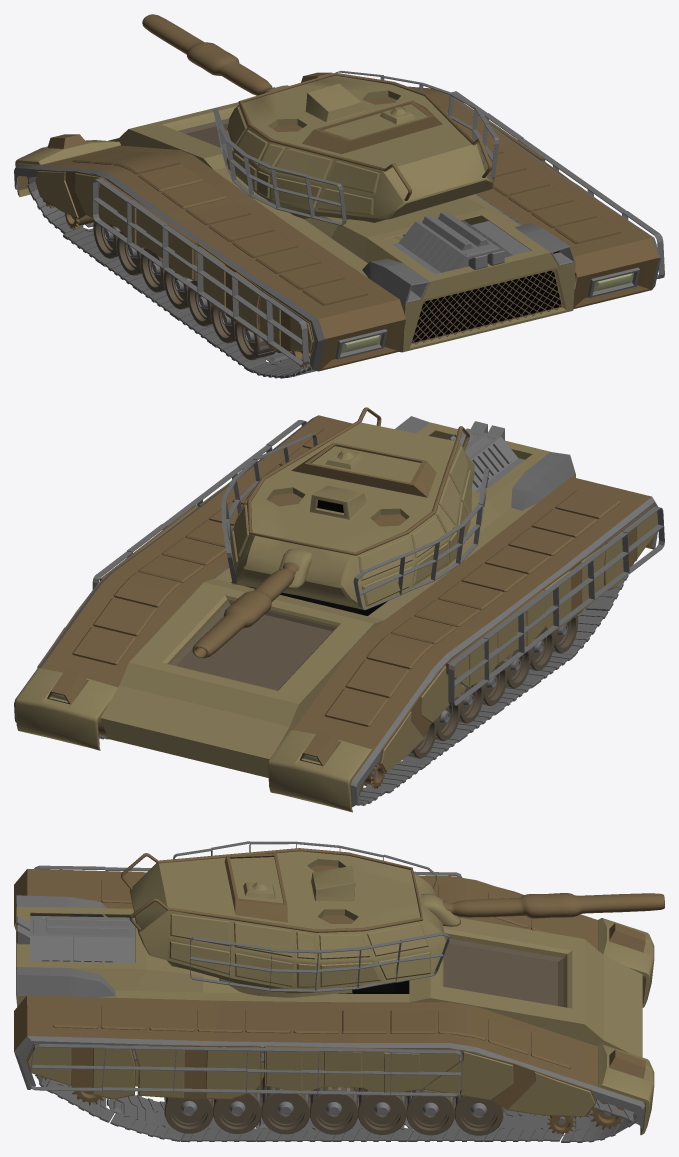
File: tank.fbx
3 renders of one model, top to bottom at view 1: azimuth 30°, elevation 25°; view 2: azimuth 150°, elevation 25°; view 3: azimuth 270°, elevation 25°, orthographic. The views are drawn at different scales.
Parts seen in each view (by area): view 1: Frame; view 2: Frame; view 3: Frame.
Part boxes in pixels (box(x1,y1,x2,y2)): Frame: box(14, 14, 664, 378); Frame: box(14, 407, 664, 812); Frame: box(14, 841, 664, 1142).
Bounding box in the file's own units: 414 × 207 × 629.
